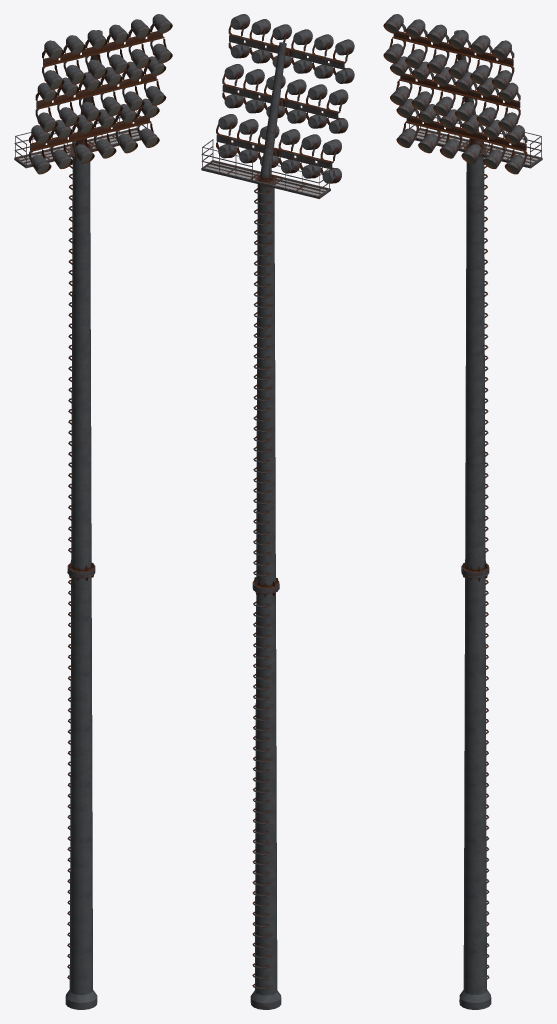
The model's file is torre_focos.glb.
3 renders of one model, left to right at view 1: azimuth 30°, elevation 25°; view 2: azimuth 150°, elevation 25°; view 3: azimuth 330°, elevation 25°, orthographic. The views are drawn at different scales.
Visible parts, largest first — view 1: stadium_light; view 2: stadium_light; view 3: stadium_light.
Boxes of the visible parts, x1,y1,x2,y2 form: stadium_light: (14, 14, 172, 1009); stadium_light: (201, 14, 354, 1009); stadium_light: (383, 14, 542, 1009).
Size of the model in its own units: 3 by 23.21 by 1.74.
Materials: 1 (1 with a texture image).
